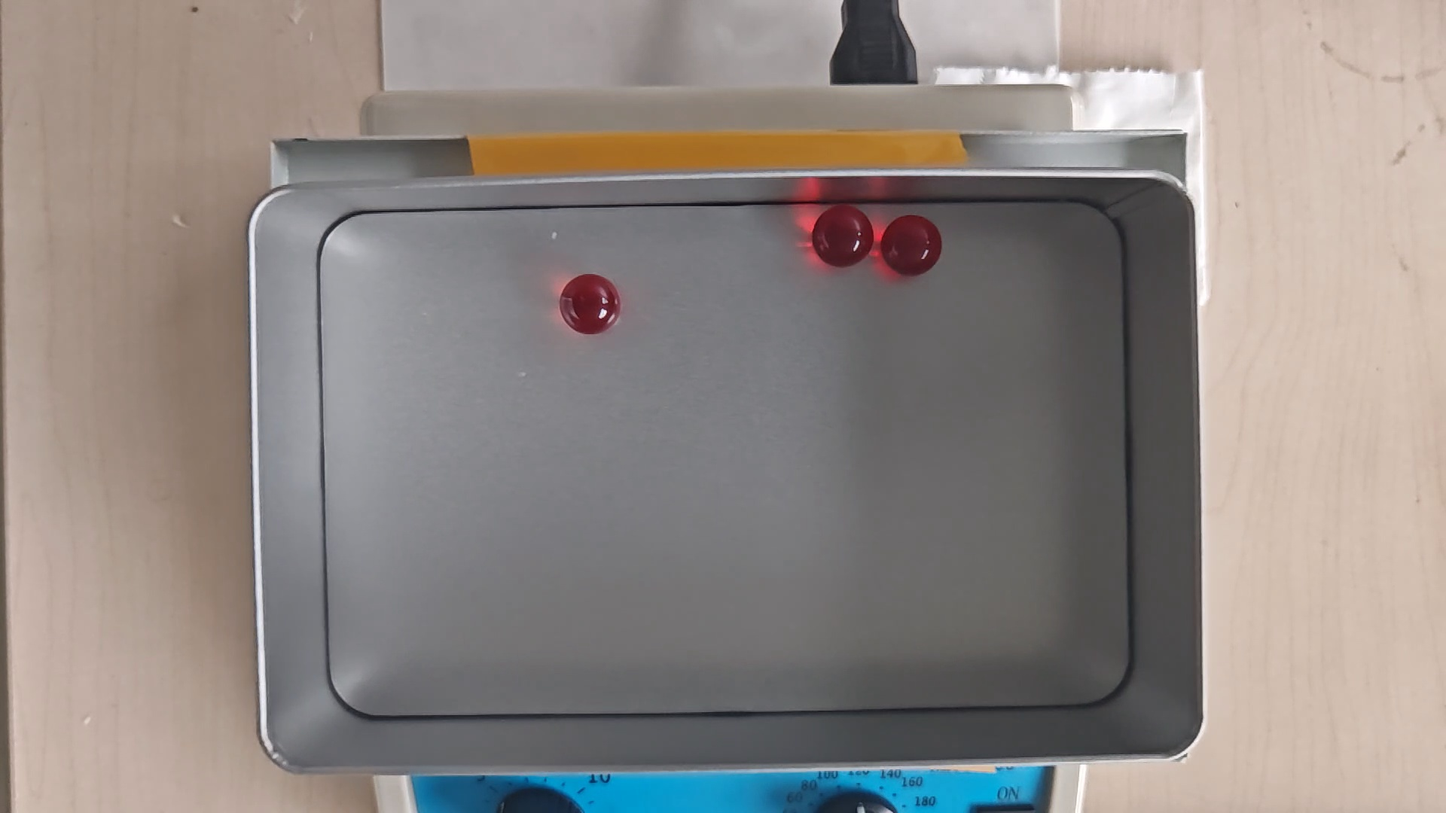ball: (883, 215, 941, 279), (560, 274, 619, 333), (813, 208, 871, 266)
container: (316, 206, 1131, 714)
